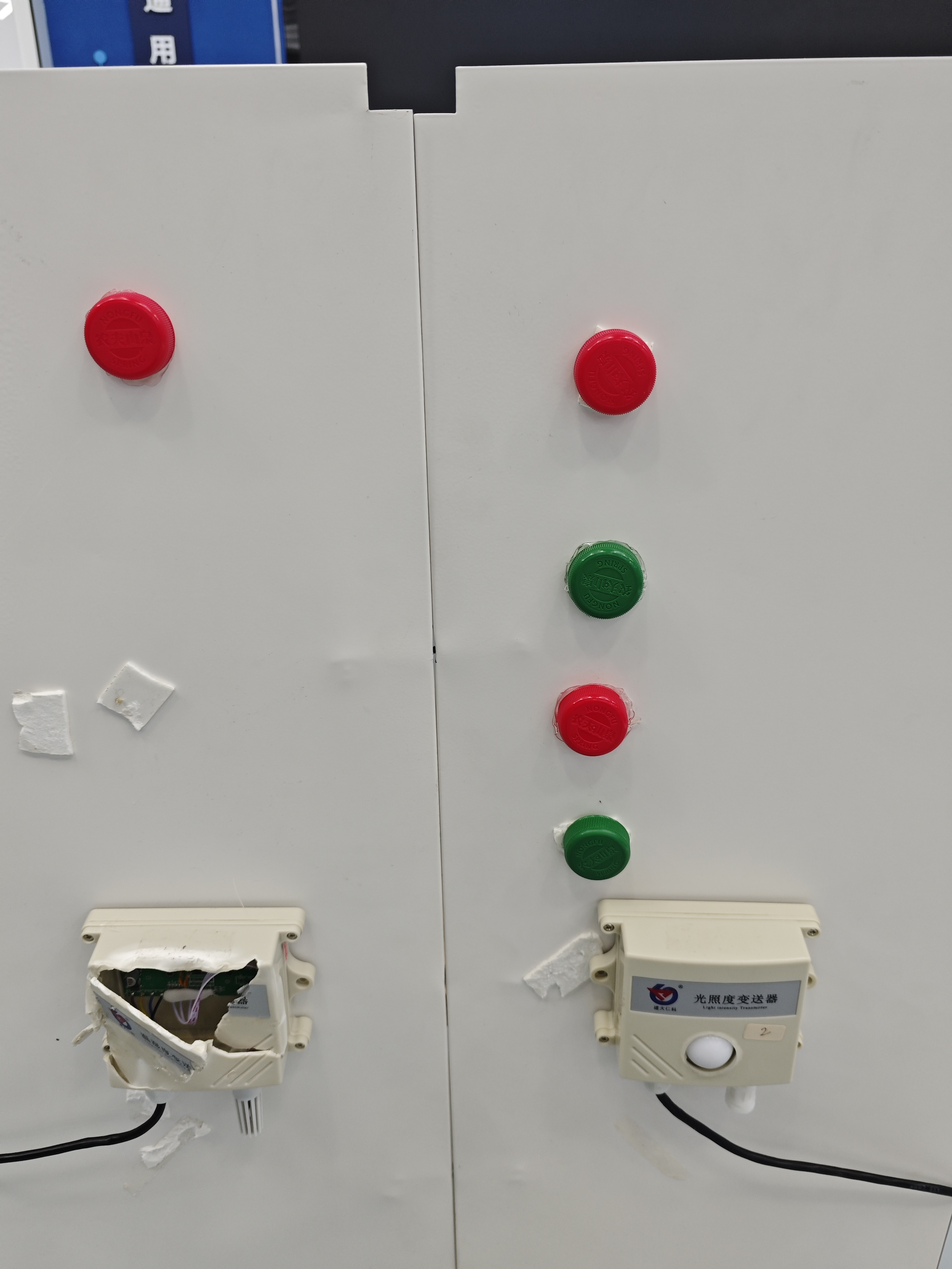red_warning: (59, 274, 252, 418), (560, 294, 676, 440)
sensor_damage: (54, 872, 345, 1177)
